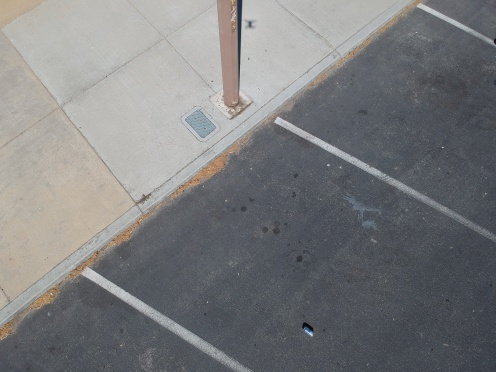can: (297, 321, 317, 340)
